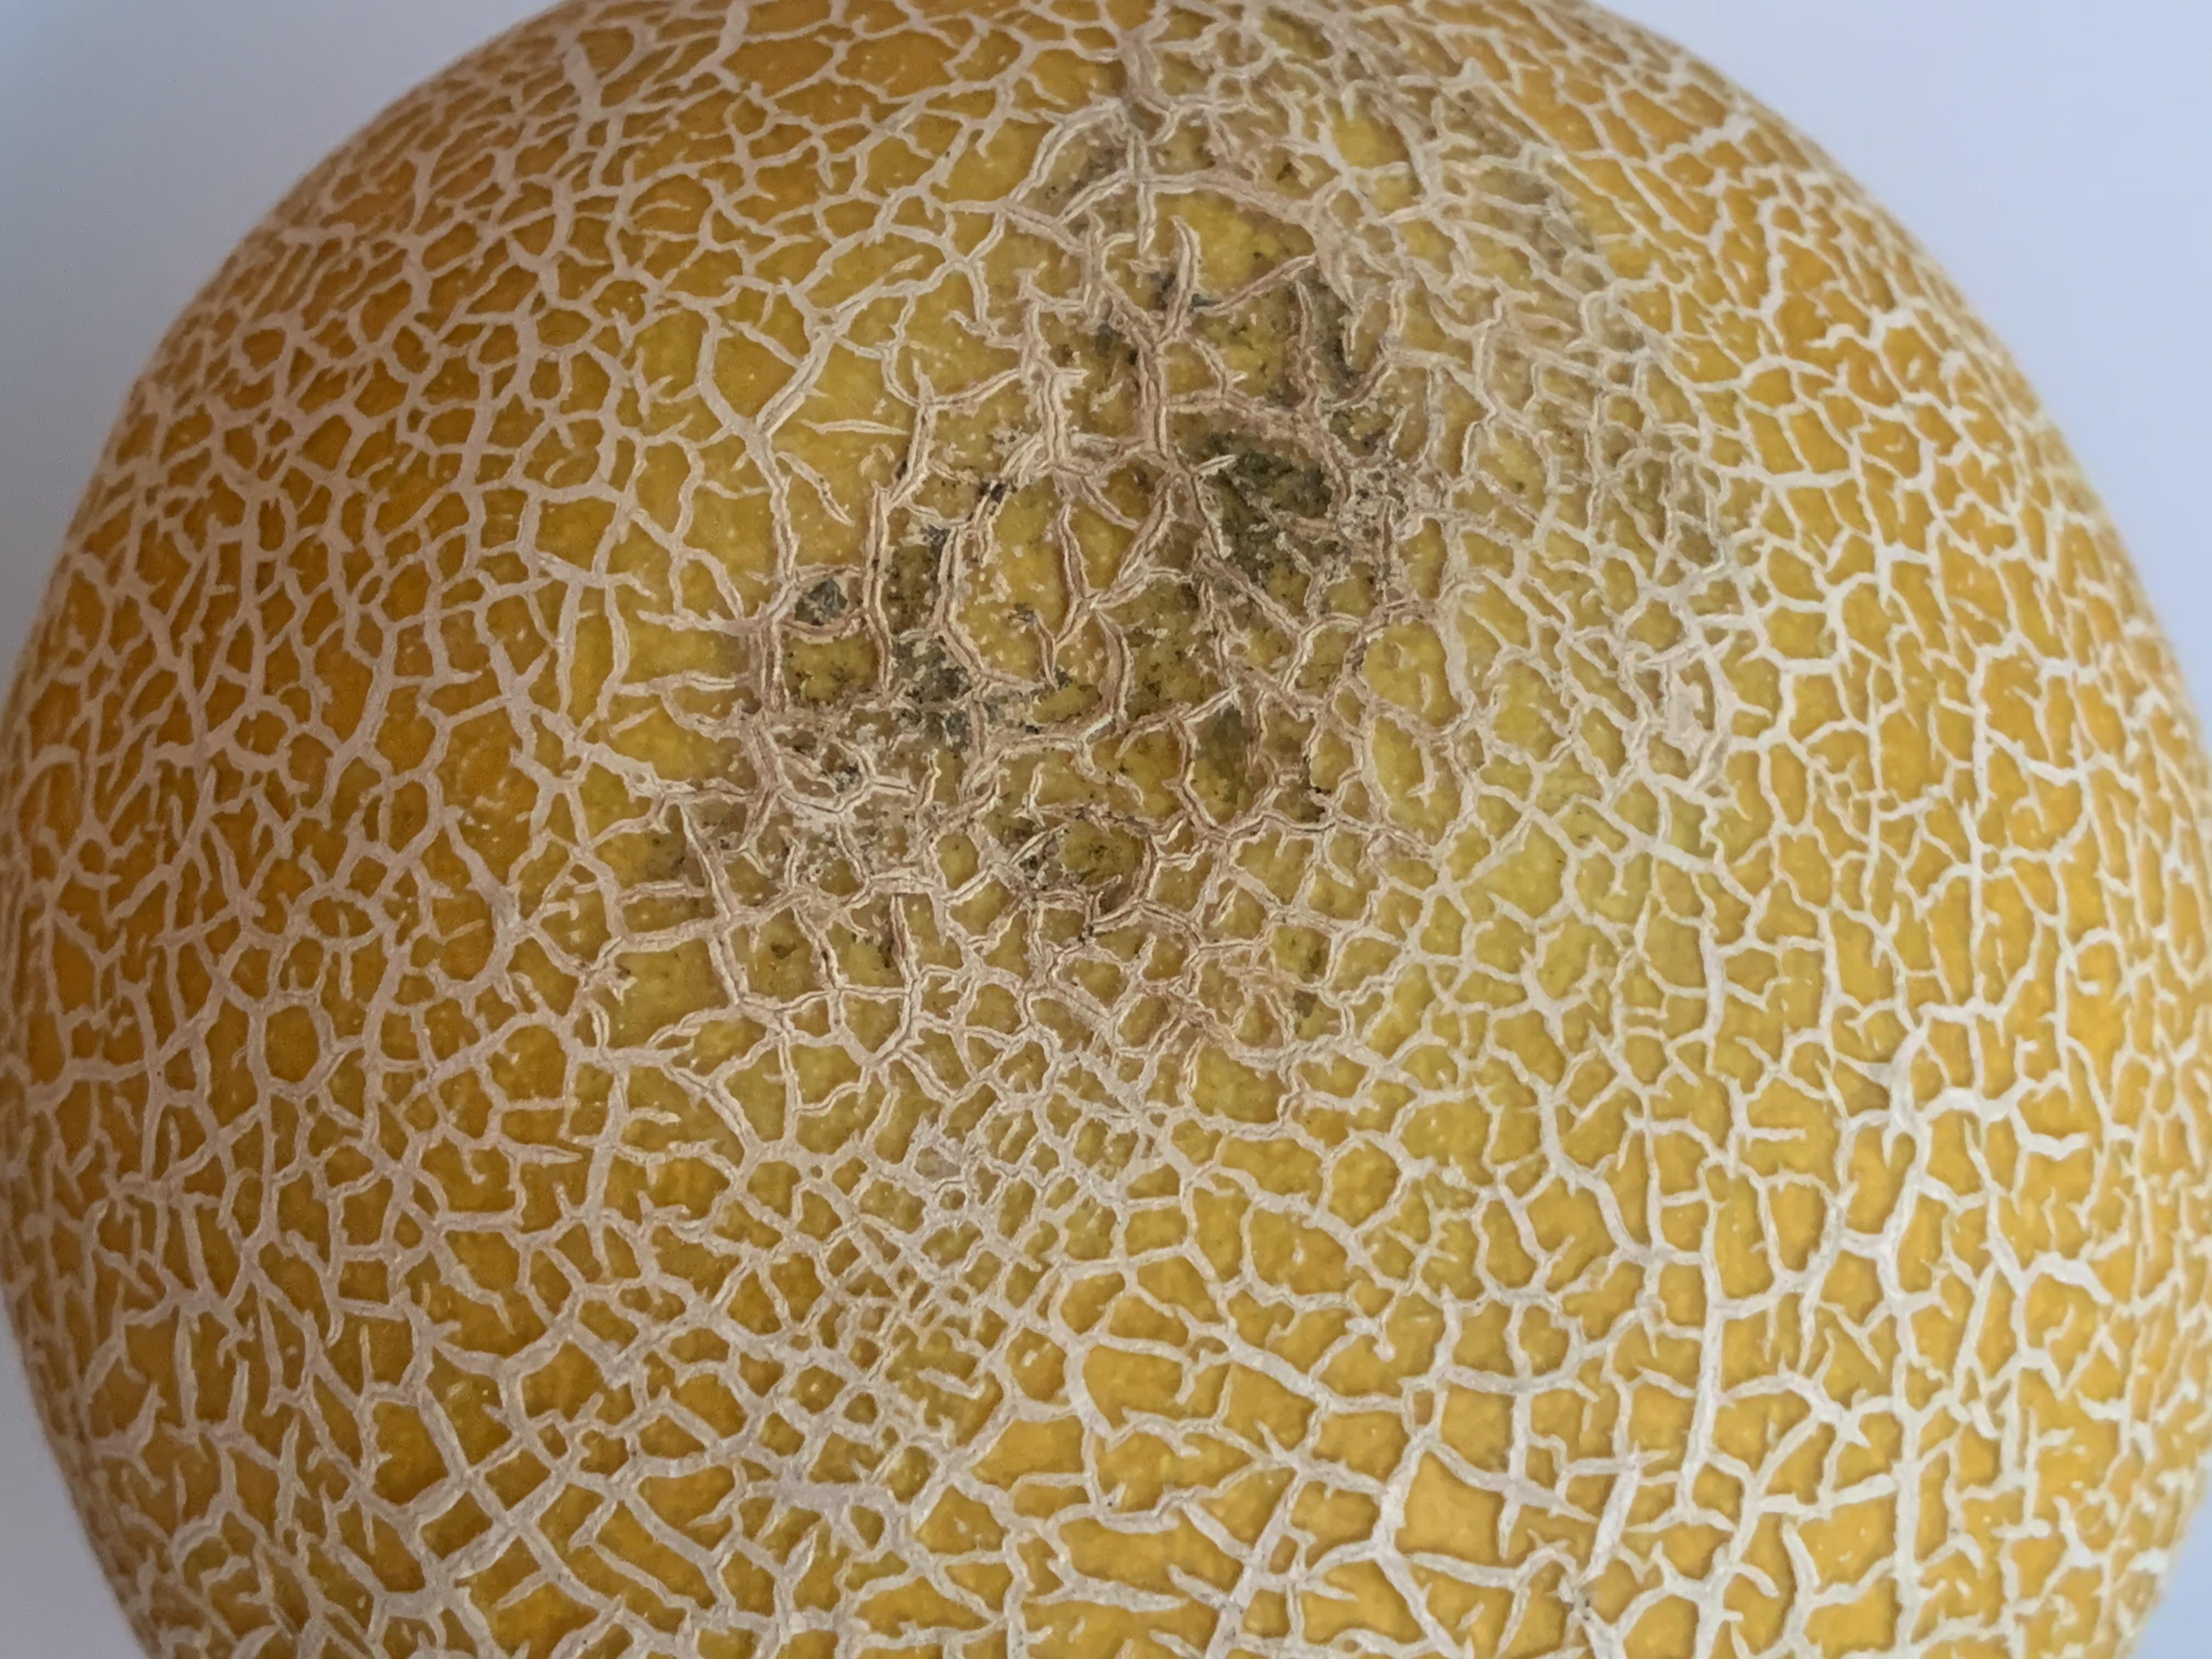galia melon: (21, 12, 2205, 1659)
